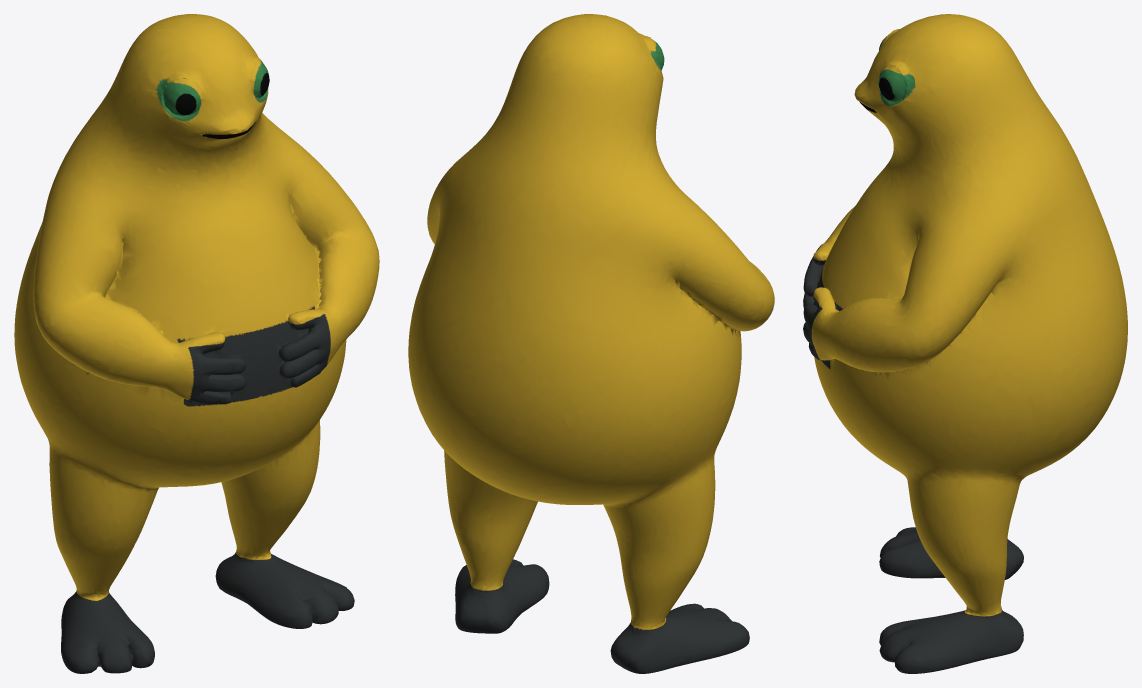
Rendered from frog.glb.
3 renders of one model, left to right at view 1: azimuth 30°, elevation 25°; view 2: azimuth 150°, elevation 25°; view 3: azimuth 270°, elevation 25°, orthographic. The views are drawn at different scales.
Visible parts, largest first — view 1: geometry_0; view 2: geometry_0; view 3: geometry_0.
Part boxes in pixels (left/top/right/bottom): geometry_0: left=14, top=14, right=379, bottom=673; geometry_0: left=408, top=14, right=774, bottom=673; geometry_0: left=803, top=14, right=1127, bottom=673.
Bounding box in the file's own units: 2.08 × 3.6 × 1.81.
